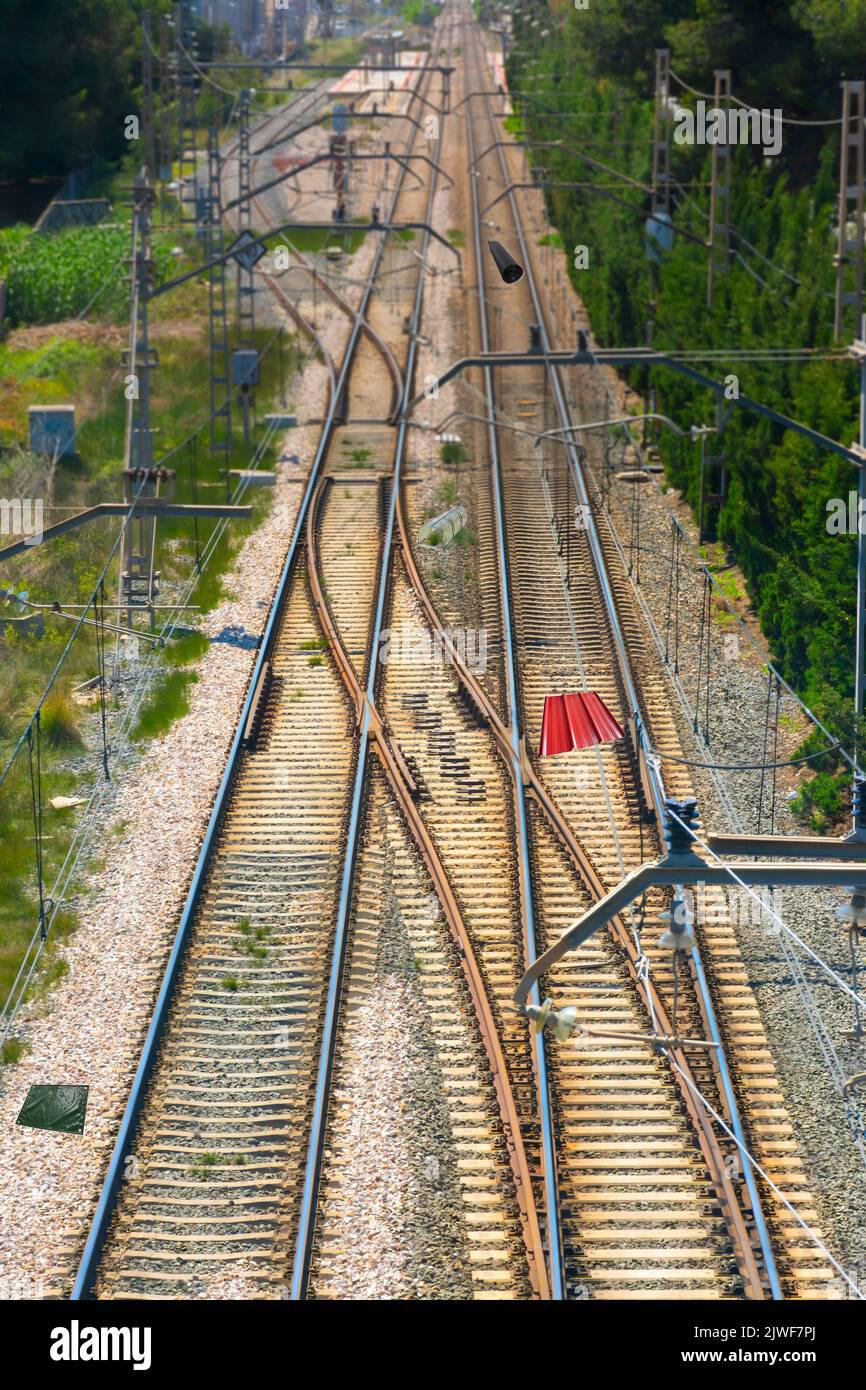Color_steel: (530, 675, 625, 772)
Dust_screen: (12, 1073, 92, 1148)
Green_house: (415, 495, 480, 570)
